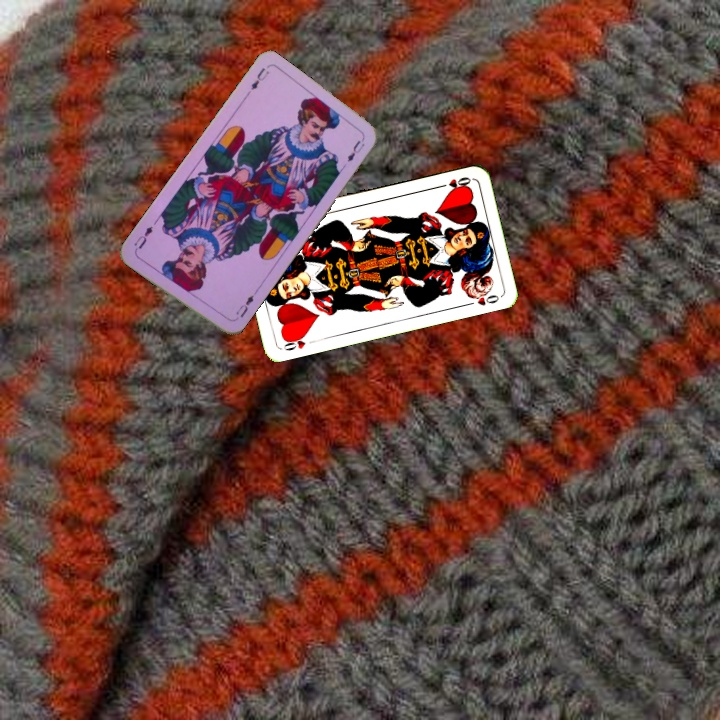EU: (229, 288, 258, 323), (247, 64, 272, 93)
HO: (434, 173, 474, 192), (279, 331, 308, 353)
